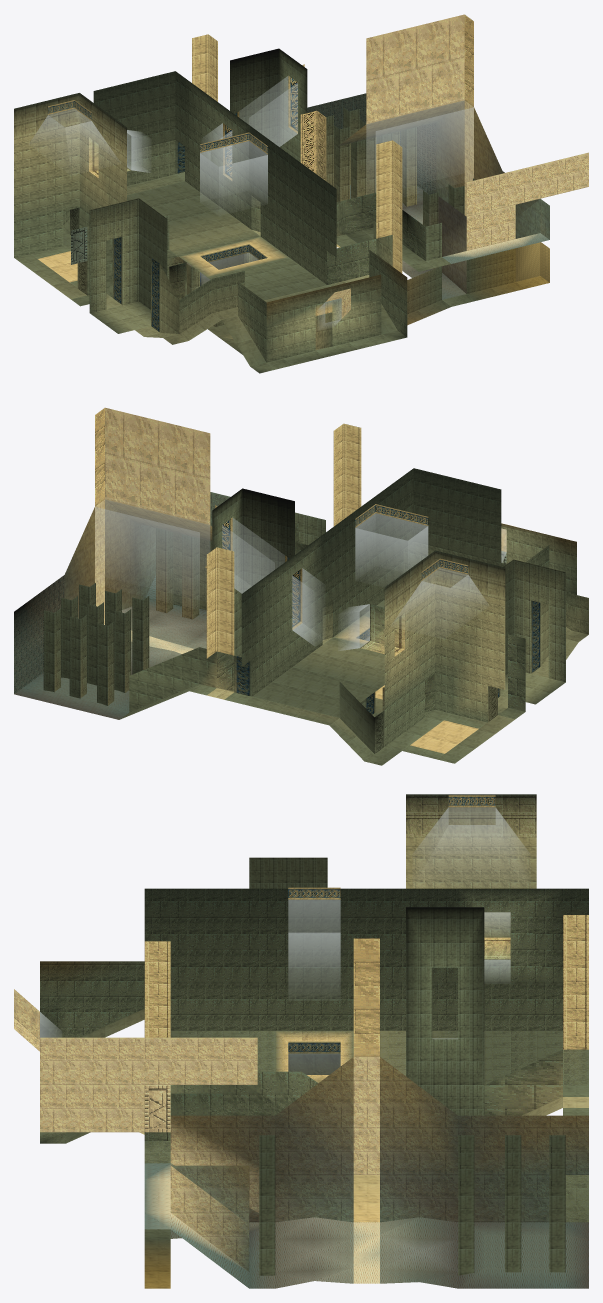
File: TemplePD.glb
The picture shows the model from 3 angles, top to bottom: view 1: azimuth 30°, elevation 25°; view 2: azimuth 150°, elevation 25°; view 3: azimuth 270°, elevation 25°; orthographic projection. The views are drawn at different scales.
Visible parts, largest first — view 1: TemplePD_0, TemplePD_5, TemplePD_8, TemplePD_3, TemplePD_Alpha_4, TemplePD_1, TemplePD_7, TemplePD_11, TemplePD_6, TemplePD_10; view 2: TemplePD_0, TemplePD_5, TemplePD_Alpha_4, TemplePD_8, TemplePD_3, TemplePD_6, TemplePD_1, TemplePD_7, TemplePD_11; view 3: TemplePD_0, TemplePD_8, TemplePD_5, TemplePD_6, TemplePD_3, TemplePD_Alpha_4, TemplePD_1, TemplePD_10.
Boxes of the visible parts, x1=… form: TemplePD_0: x1=14, y1=15, x2=473, y2=362; TemplePD_5: x1=14, y1=34, x2=515, y2=326; TemplePD_8: x1=326, y1=14, x2=588, y2=318; TemplePD_3: x1=14, y1=172, x2=549, y2=373; TemplePD_Alpha_4: x1=30, y1=76, x2=473, y2=328; TemplePD_1: x1=48, y1=64, x2=304, y2=332; TemplePD_7: x1=307, y1=93, x2=549, y2=282; TemplePD_11: x1=70, y1=110, x2=326, y2=294; TemplePD_6: x1=350, y1=179, x2=549, y2=299; TemplePD_10: x1=71, y1=227, x2=87, y2=264; TemplePD_0: x1=95, y1=408, x2=588, y2=746; TemplePD_5: x1=43, y1=423, x2=565, y2=705; TemplePD_Alpha_4: x1=95, y1=499, x2=506, y2=650; TemplePD_8: x1=64, y1=407, x2=515, y2=624; TemplePD_3: x1=119, y1=600, x2=588, y2=765; TemplePD_6: x1=14, y1=575, x2=206, y2=719; TemplePD_1: x1=205, y1=504, x2=540, y2=714; TemplePD_7: x1=14, y1=575, x2=64, y2=693; TemplePD_11: x1=374, y1=686, x2=497, y2=753; TemplePD_0: x1=40, y1=837, x2=588, y2=1115; TemplePD_8: x1=14, y1=989, x2=588, y2=1271; TemplePD_5: x1=144, y1=794, x2=588, y2=1275; TemplePD_6: x1=144, y1=1163, x2=588, y2=1288; TemplePD_3: x1=40, y1=1008, x2=588, y2=1288; TemplePD_Alpha_4: x1=40, y1=807, x2=527, y2=1074; TemplePD_1: x1=288, y1=795, x2=495, y2=1053; TemplePD_10: x1=144, y1=1085, x2=170, y2=1132.
Size of the model in its own units: 1011 by 469 by 825.
Materials: 12 (12 with a texture image).
